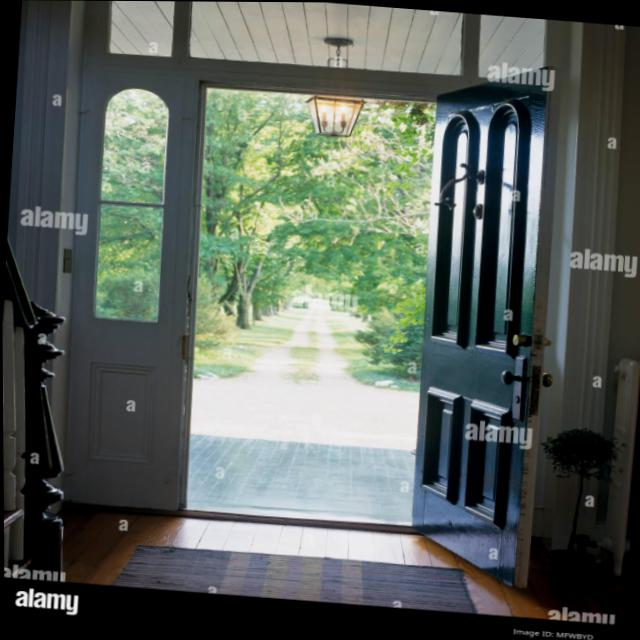open: (148, 43, 569, 590)
